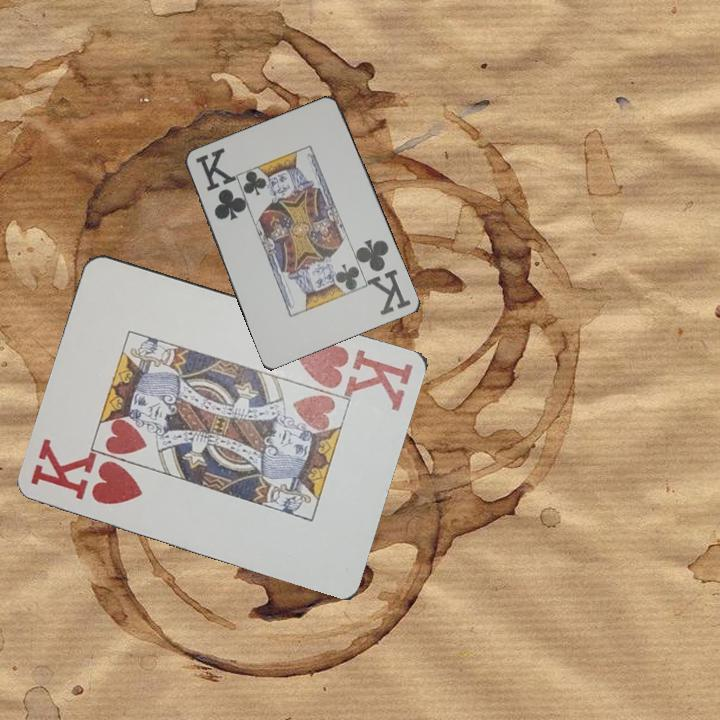Kc: (354, 235, 414, 319), (192, 146, 246, 224)
Kh: (293, 340, 417, 411), (27, 440, 146, 507)
